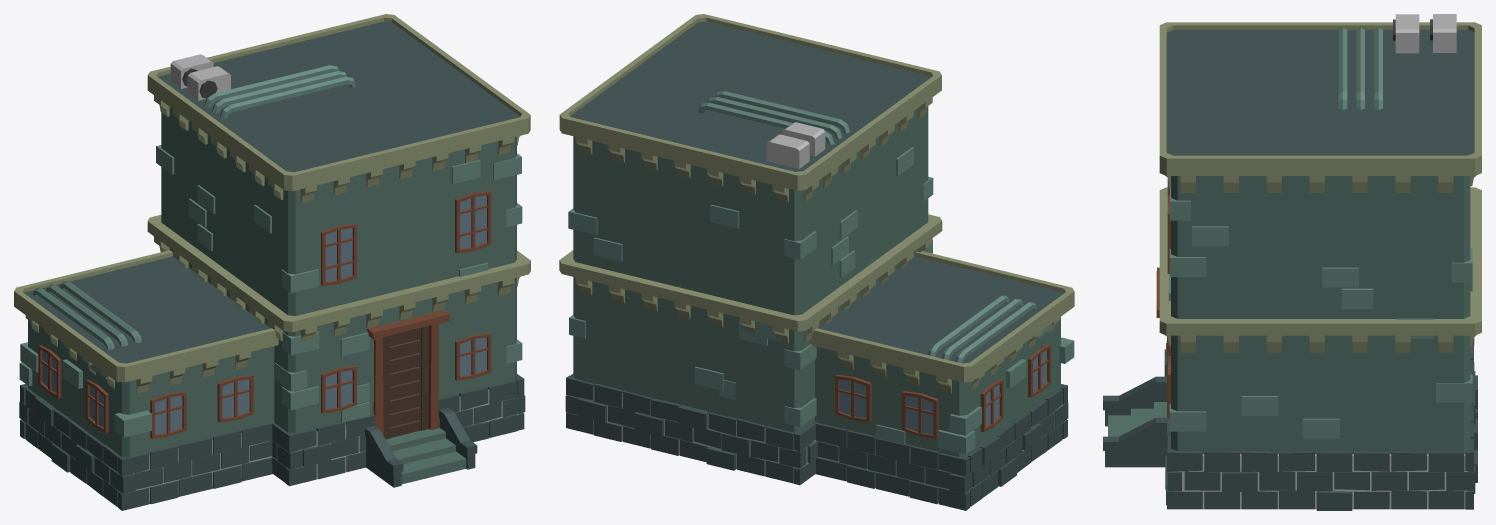
Rendered from 2Story_Sidehouse_Mat.glb.
3 views of the same model, side by side, from view 1: azimuth 30°, elevation 25°; view 2: azimuth 150°, elevation 25°; view 3: azimuth 270°, elevation 25° (orthographic). The views are drawn at different scales.
Parts seen in each view (by area): view 1: 2Story_Sidehouse_Mat; view 2: 2Story_Sidehouse_Mat; view 3: 2Story_Sidehouse_Mat.
Part boxes in pixels (<box>): 2Story_Sidehouse_Mat: <box>14,14,530,510</box>; 2Story_Sidehouse_Mat: <box>559,14,1074,510</box>; 2Story_Sidehouse_Mat: <box>1103,14,1481,510</box>.
Bounding box in the file's own units: 3.47 × 2.76 × 2.53.
